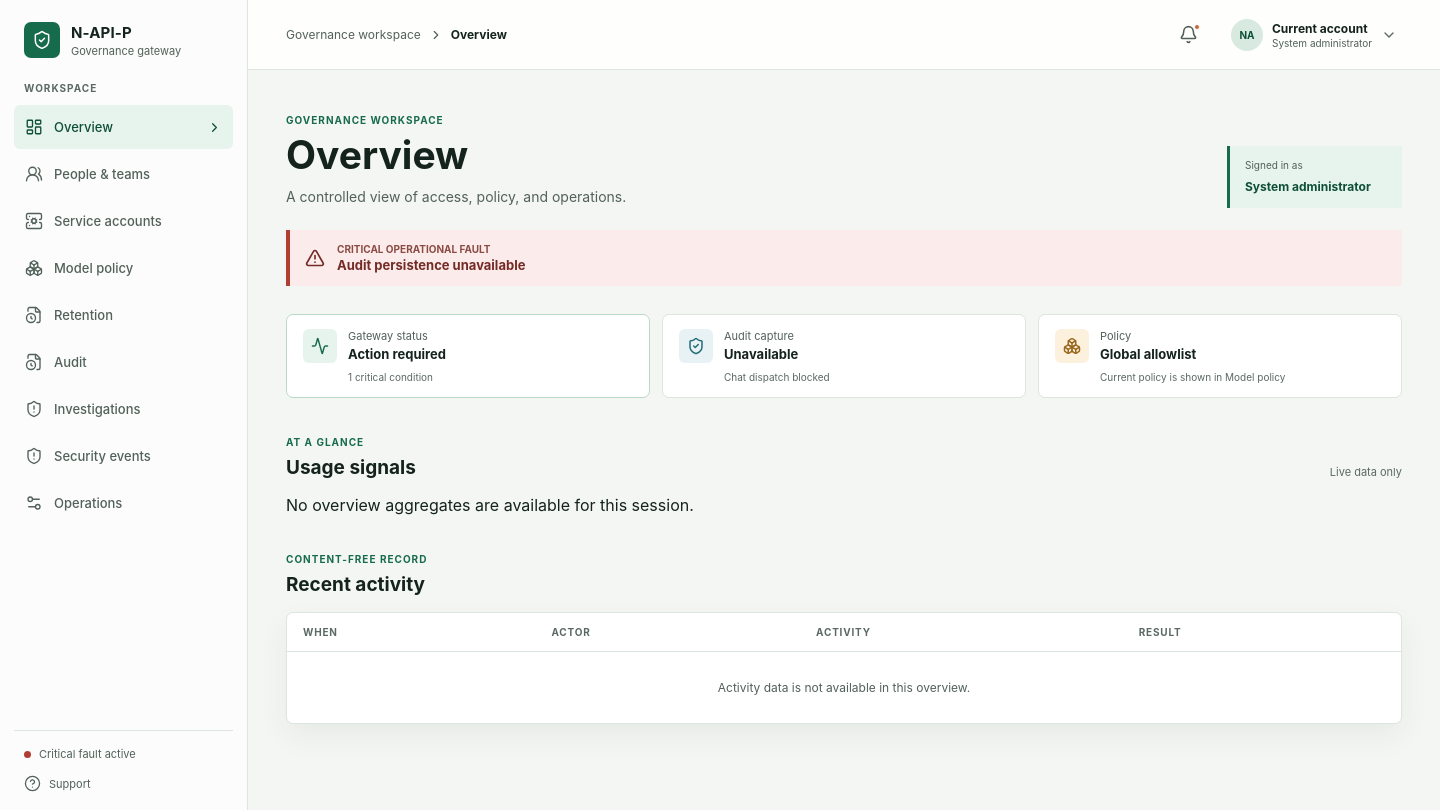
Test: App › keeps allowlisted critical faults visible across system administration sections
Expected: the message "Audit persistence unavailable" is shown, [286,230,1402,286]
What coordinates should you click on to do the following:
click the link "People & teams"
I would click on:
 (88, 174)
Its box is [25,165,150,183].
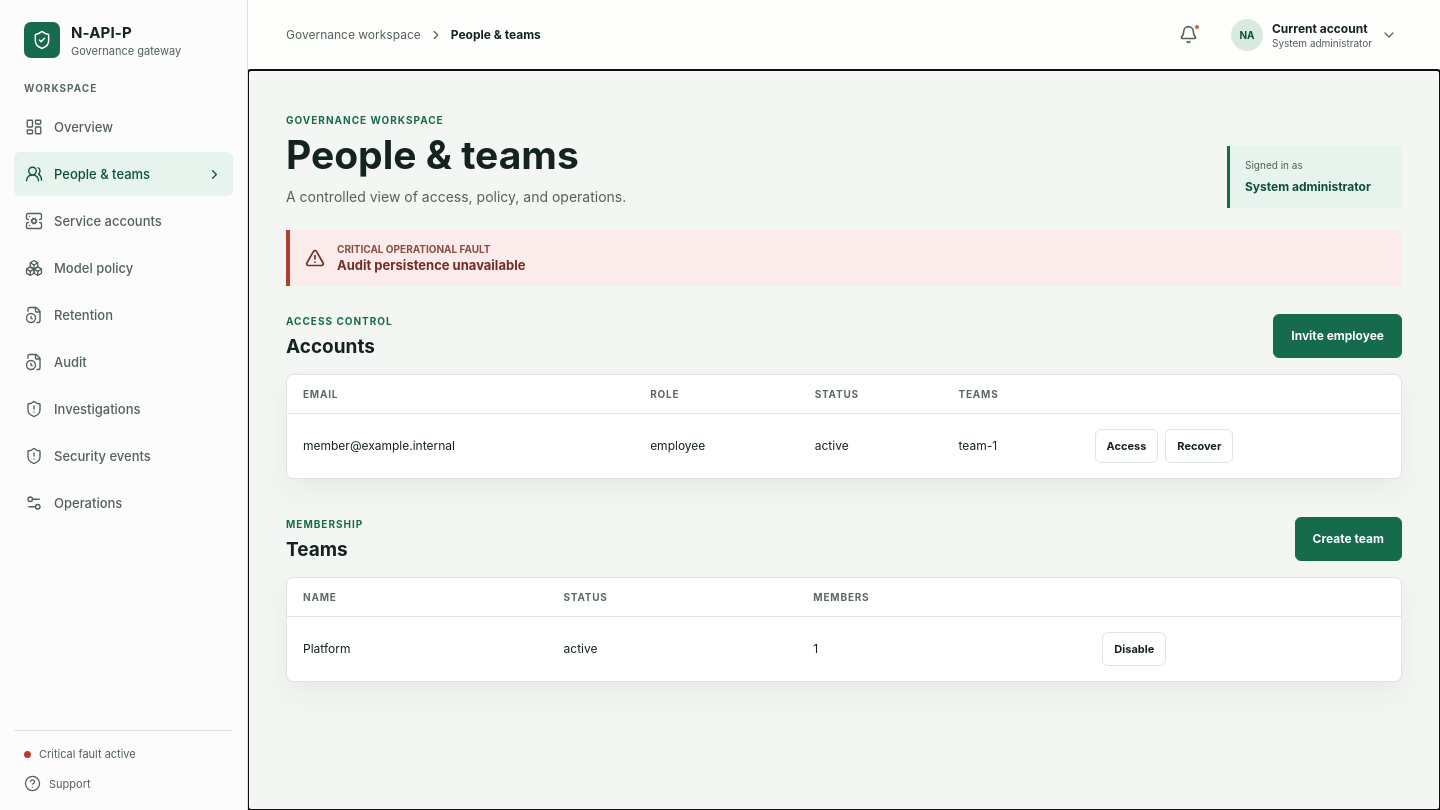
Expected: the message "Audit persistence unavailable" is shown, [286,230,1402,286]
Expected: the table named "Accounts" is shown, [287,375,1401,478]
